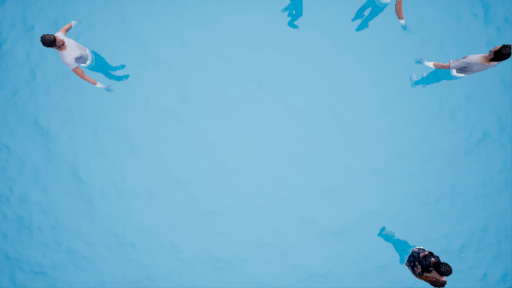person: (43, 20, 139, 91), (417, 33, 512, 100), (376, 224, 455, 288)
